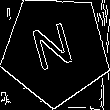N_S: (30, 20, 81, 80)
